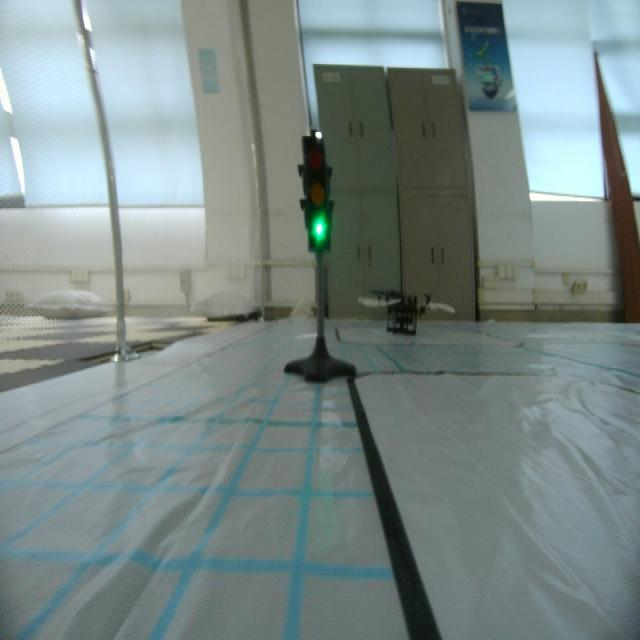green: (296, 134, 335, 252)
